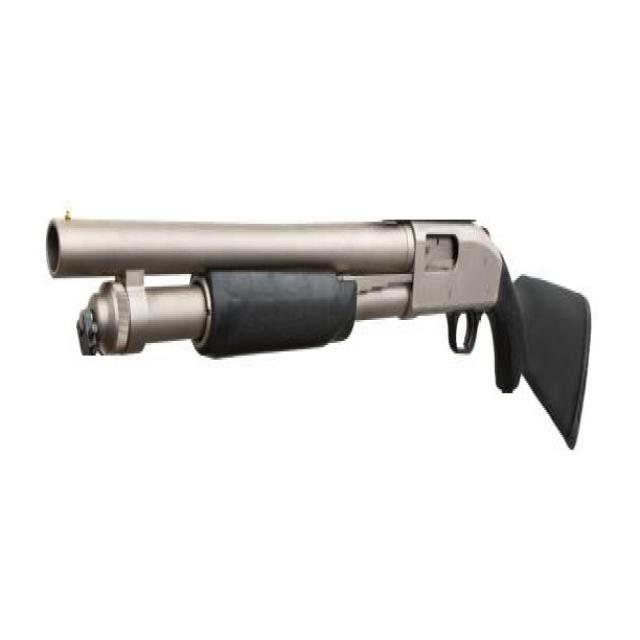rifle: (39, 197, 600, 475)
